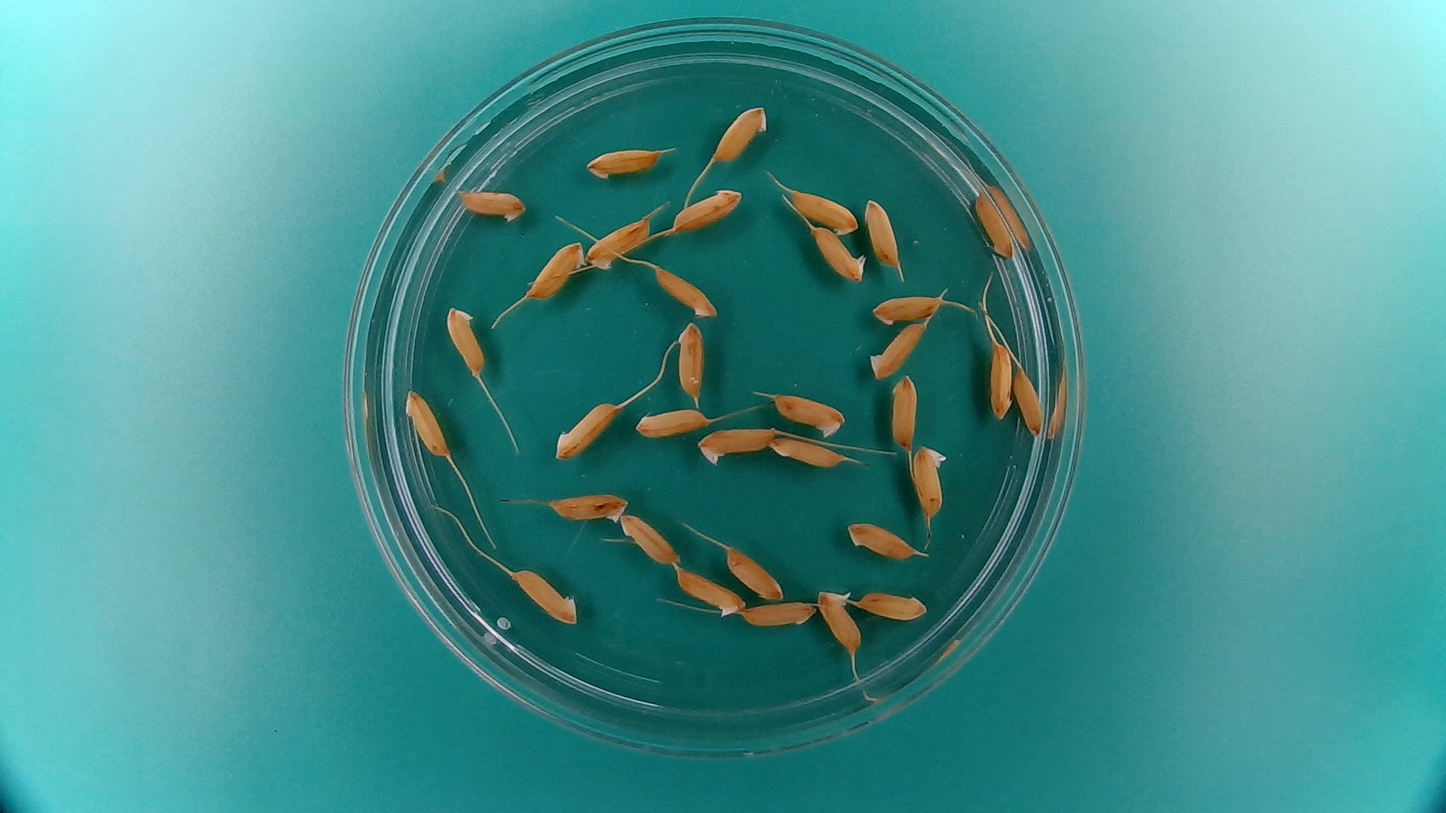no: (551, 397, 623, 463), (581, 212, 655, 270), (510, 565, 579, 625), (526, 236, 586, 304), (784, 185, 862, 236), (648, 263, 718, 319), (694, 422, 780, 467), (672, 567, 746, 619), (710, 102, 771, 165), (804, 225, 868, 284), (867, 319, 928, 380), (769, 391, 848, 438), (581, 142, 667, 184), (722, 545, 786, 601), (908, 443, 953, 522), (403, 387, 451, 460), (671, 188, 743, 236), (844, 518, 922, 562), (621, 511, 682, 567), (443, 302, 487, 379), (970, 188, 1017, 260), (816, 586, 862, 658), (864, 193, 905, 272), (546, 488, 630, 525), (1010, 361, 1048, 440), (868, 290, 947, 327), (456, 184, 529, 224), (633, 404, 712, 440), (767, 433, 843, 470), (673, 318, 706, 403), (887, 371, 920, 452), (854, 587, 929, 622), (986, 334, 1014, 420), (741, 600, 816, 629)
